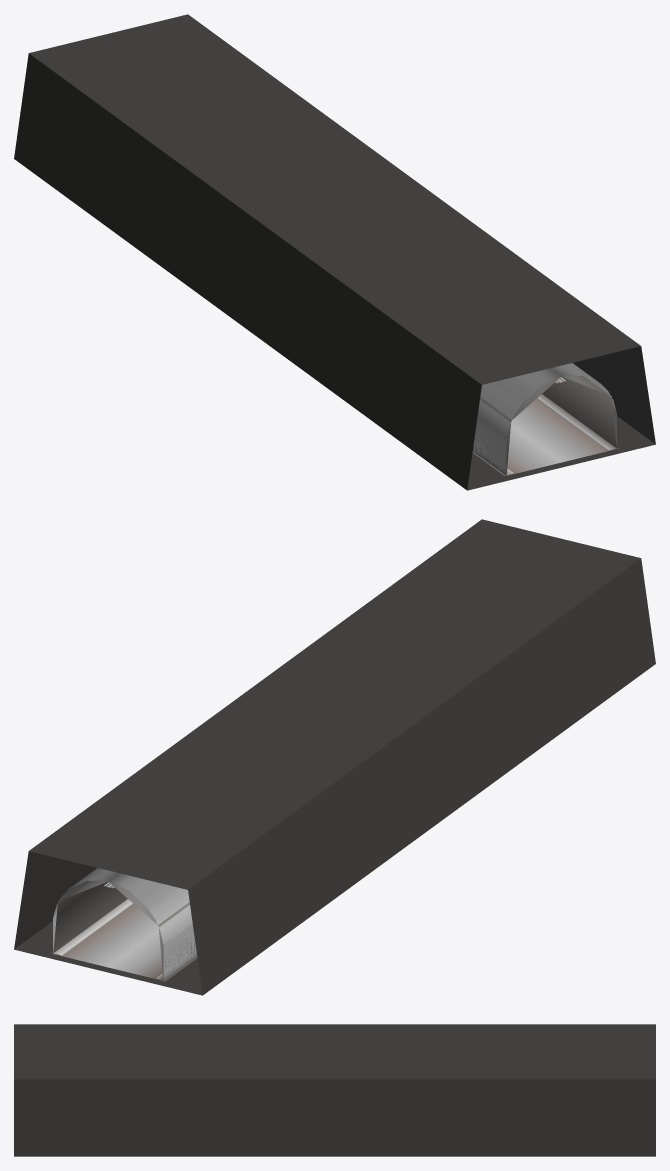
File: ut_tunnel_64m.dae
3 views of the same model, one above another, from view 1: azimuth 30°, elevation 25°; view 2: azimuth 150°, elevation 25°; view 3: azimuth 270°, elevation 25° (orthographic). The views are drawn at different scales.
Parts seen in each view (by area): view 1: ut_tunnel_64m_a1000, Colmesh-1, ut_tunnel_64m_a40, ut_tunnel_64m_a120; view 2: ut_tunnel_64m_a1000, Colmesh-1, ut_tunnel_64m_a40, ut_tunnel_64m_a120; view 3: ut_tunnel_64m_a1000.
Part boxes in pixels (x1,y1,x2,y2): ut_tunnel_64m_a1000: [14, 14, 655, 490]; Colmesh-1: [474, 375, 615, 474]; ut_tunnel_64m_a40: [472, 375, 617, 477]; ut_tunnel_64m_a120: [474, 363, 616, 467]; ut_tunnel_64m_a1000: [14, 519, 655, 995]; Colmesh-1: [54, 880, 194, 979]; ut_tunnel_64m_a40: [52, 880, 197, 982]; ut_tunnel_64m_a120: [53, 868, 195, 977]; ut_tunnel_64m_a1000: [14, 1024, 655, 1156].
Size of the model in its own units: 15.39 by 64 by 7.96.
